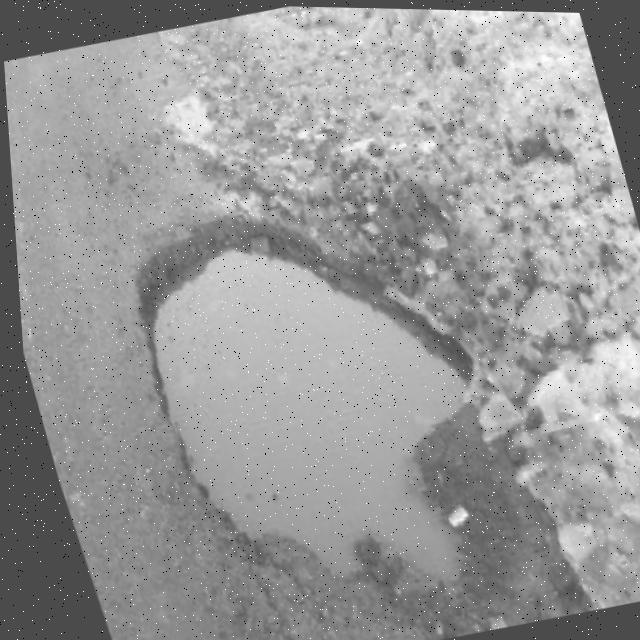Pothole: (73, 140, 552, 640)
